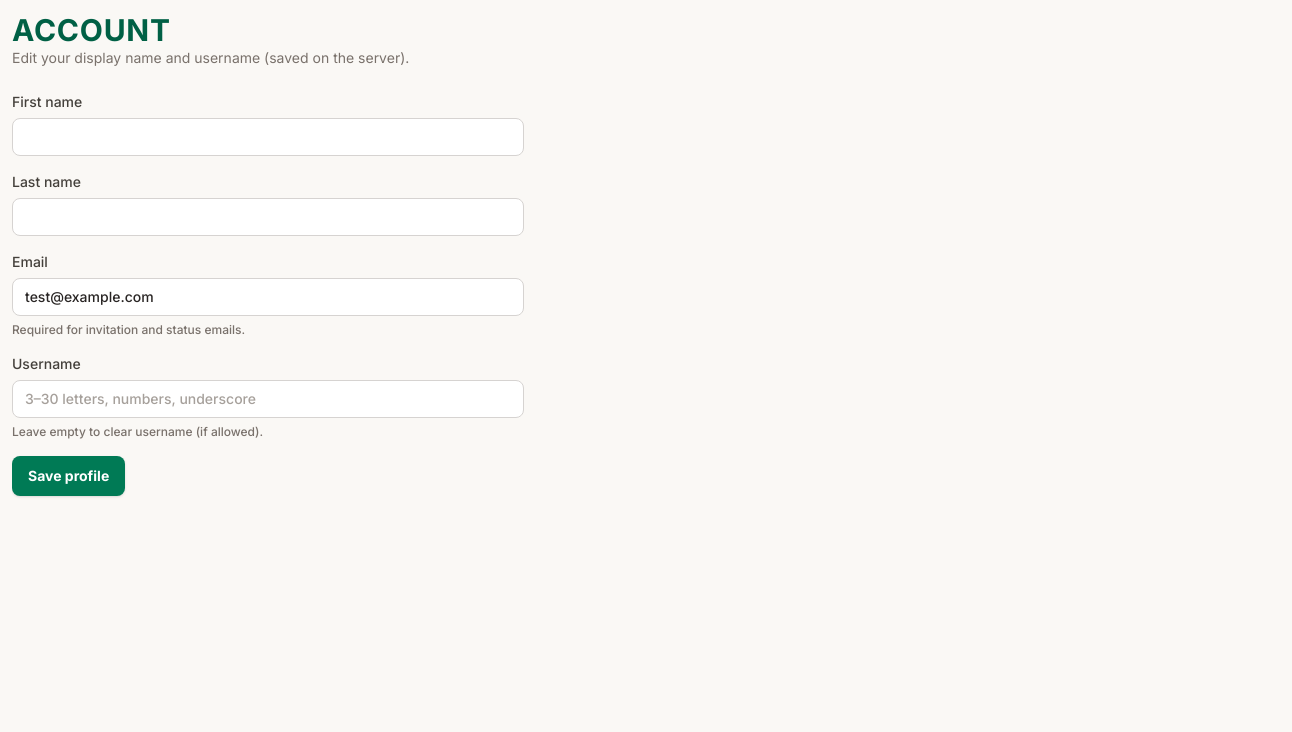
Account › handles update JSON error
Click the button "Save profile" at (69, 476), box x1=12 y1=456 x2=125 y2=496
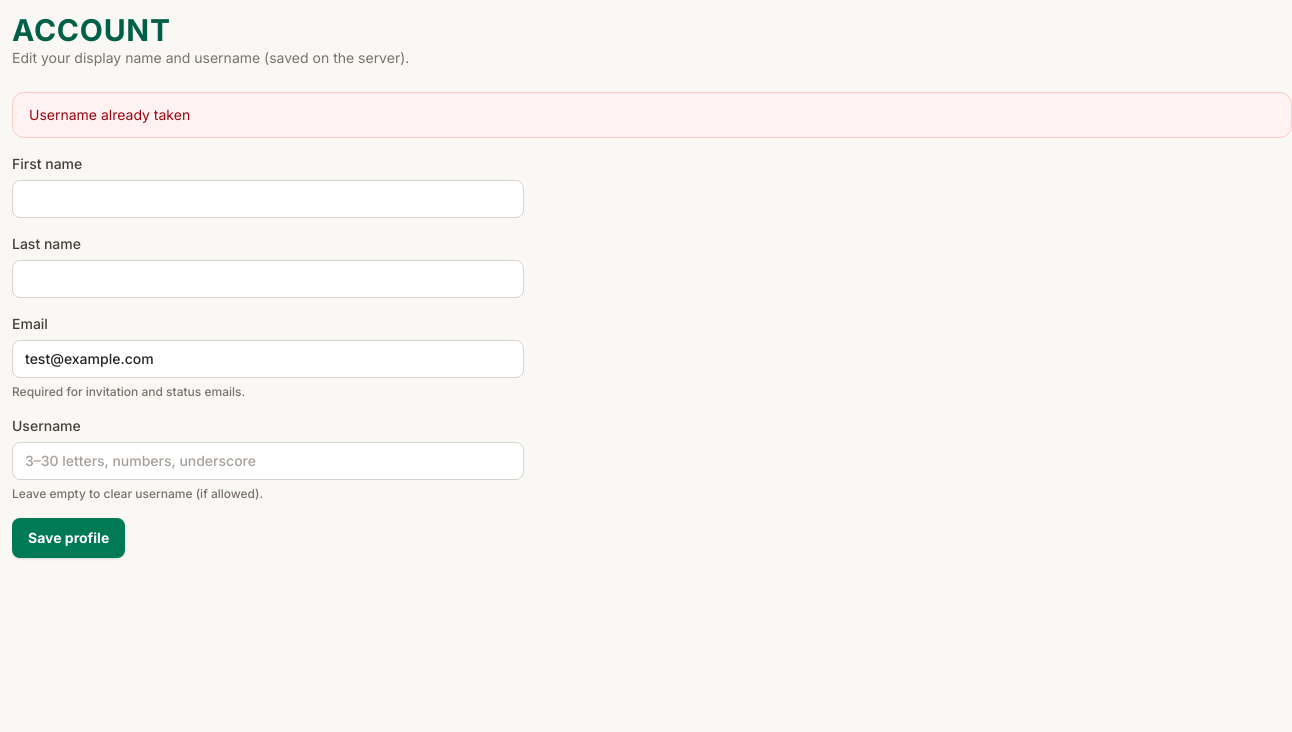
Result: the text "Username already taken" is shown at x1=12 y1=92 x2=1291 y2=138
